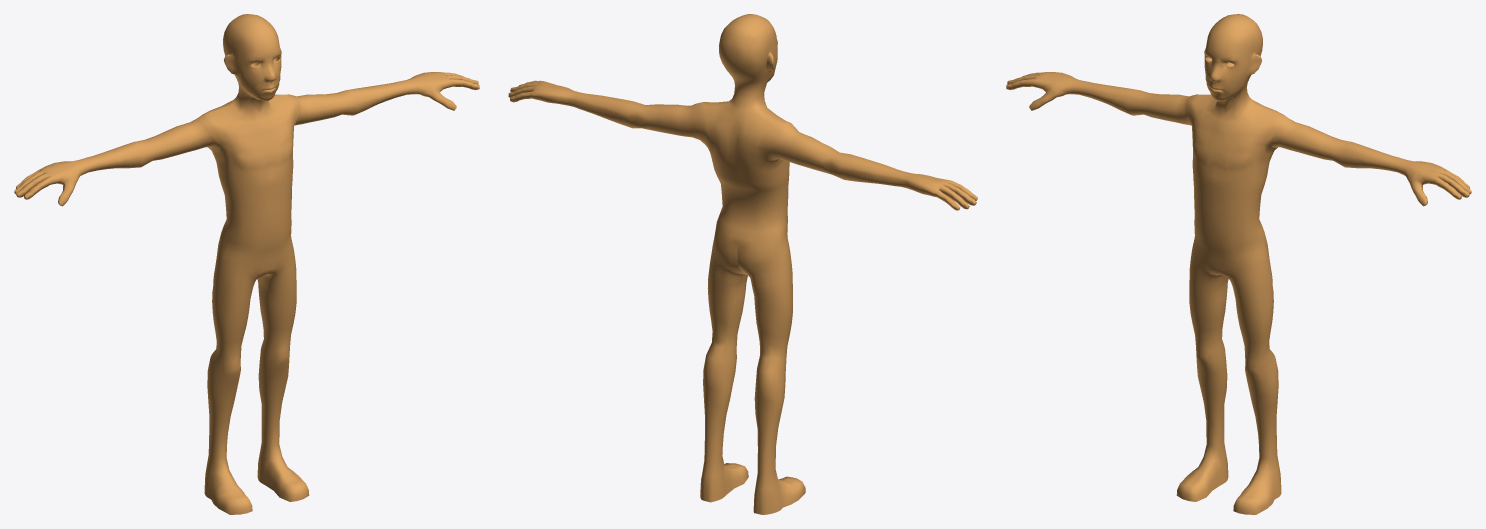
File: arce.fbx
3 renders of one model, left to right at view 1: azimuth 30°, elevation 25°; view 2: azimuth 150°, elevation 25°; view 3: azimuth 330°, elevation 25°, orthographic.
Visible parts, largest first — view 1: body; view 2: body; view 3: body.
Boxes of the visible parts, x1,y1,x2,y2 form: body: (14,14,479,514); body: (508,14,977,514); body: (1006,14,1471,514).
Size of the model in its own units: 209 by 206 by 29.67.
